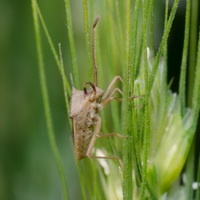insect: (69, 16, 122, 166)
